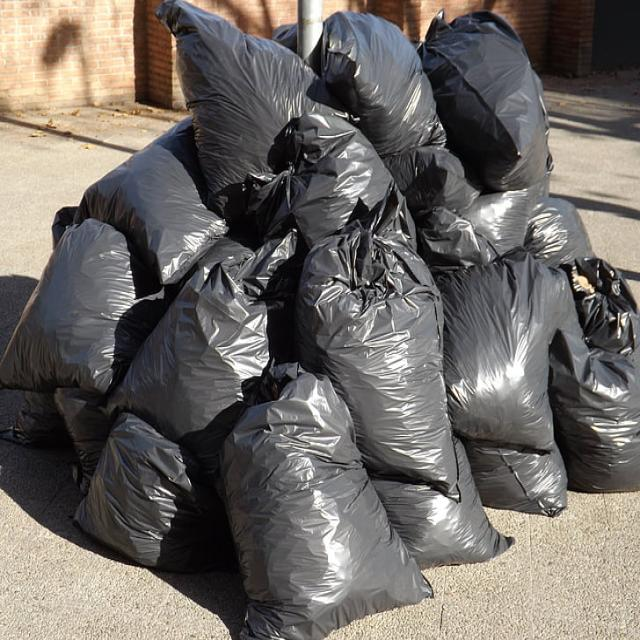plastic_bag: (231, 376, 389, 625), (312, 212, 457, 473), (126, 237, 284, 417), (164, 20, 326, 192), (65, 417, 203, 577), (424, 31, 569, 181), (19, 218, 136, 394), (449, 259, 567, 432), (328, 21, 451, 177), (567, 344, 640, 495), (299, 127, 407, 225), (476, 422, 556, 512)
